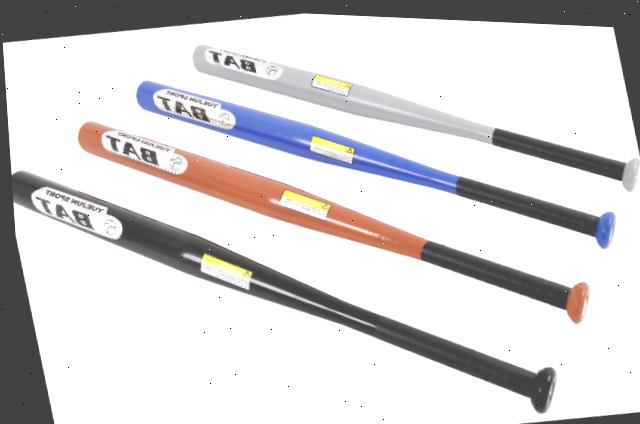baseball bat: (129, 290, 566, 424)
